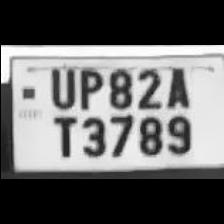2: (134, 64, 162, 108)
3: (76, 112, 106, 158)
7: (104, 110, 134, 158)
8: (102, 64, 134, 108), (134, 110, 162, 156)
9: (162, 111, 194, 155)
A: (162, 62, 194, 110)
P: (72, 64, 104, 108)
T: (44, 111, 78, 159)
U: (43, 62, 77, 108)
